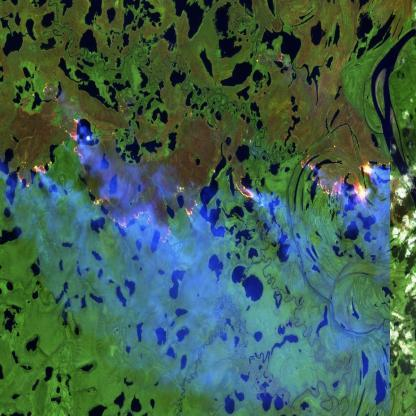fire: (0, 112, 416, 254)
